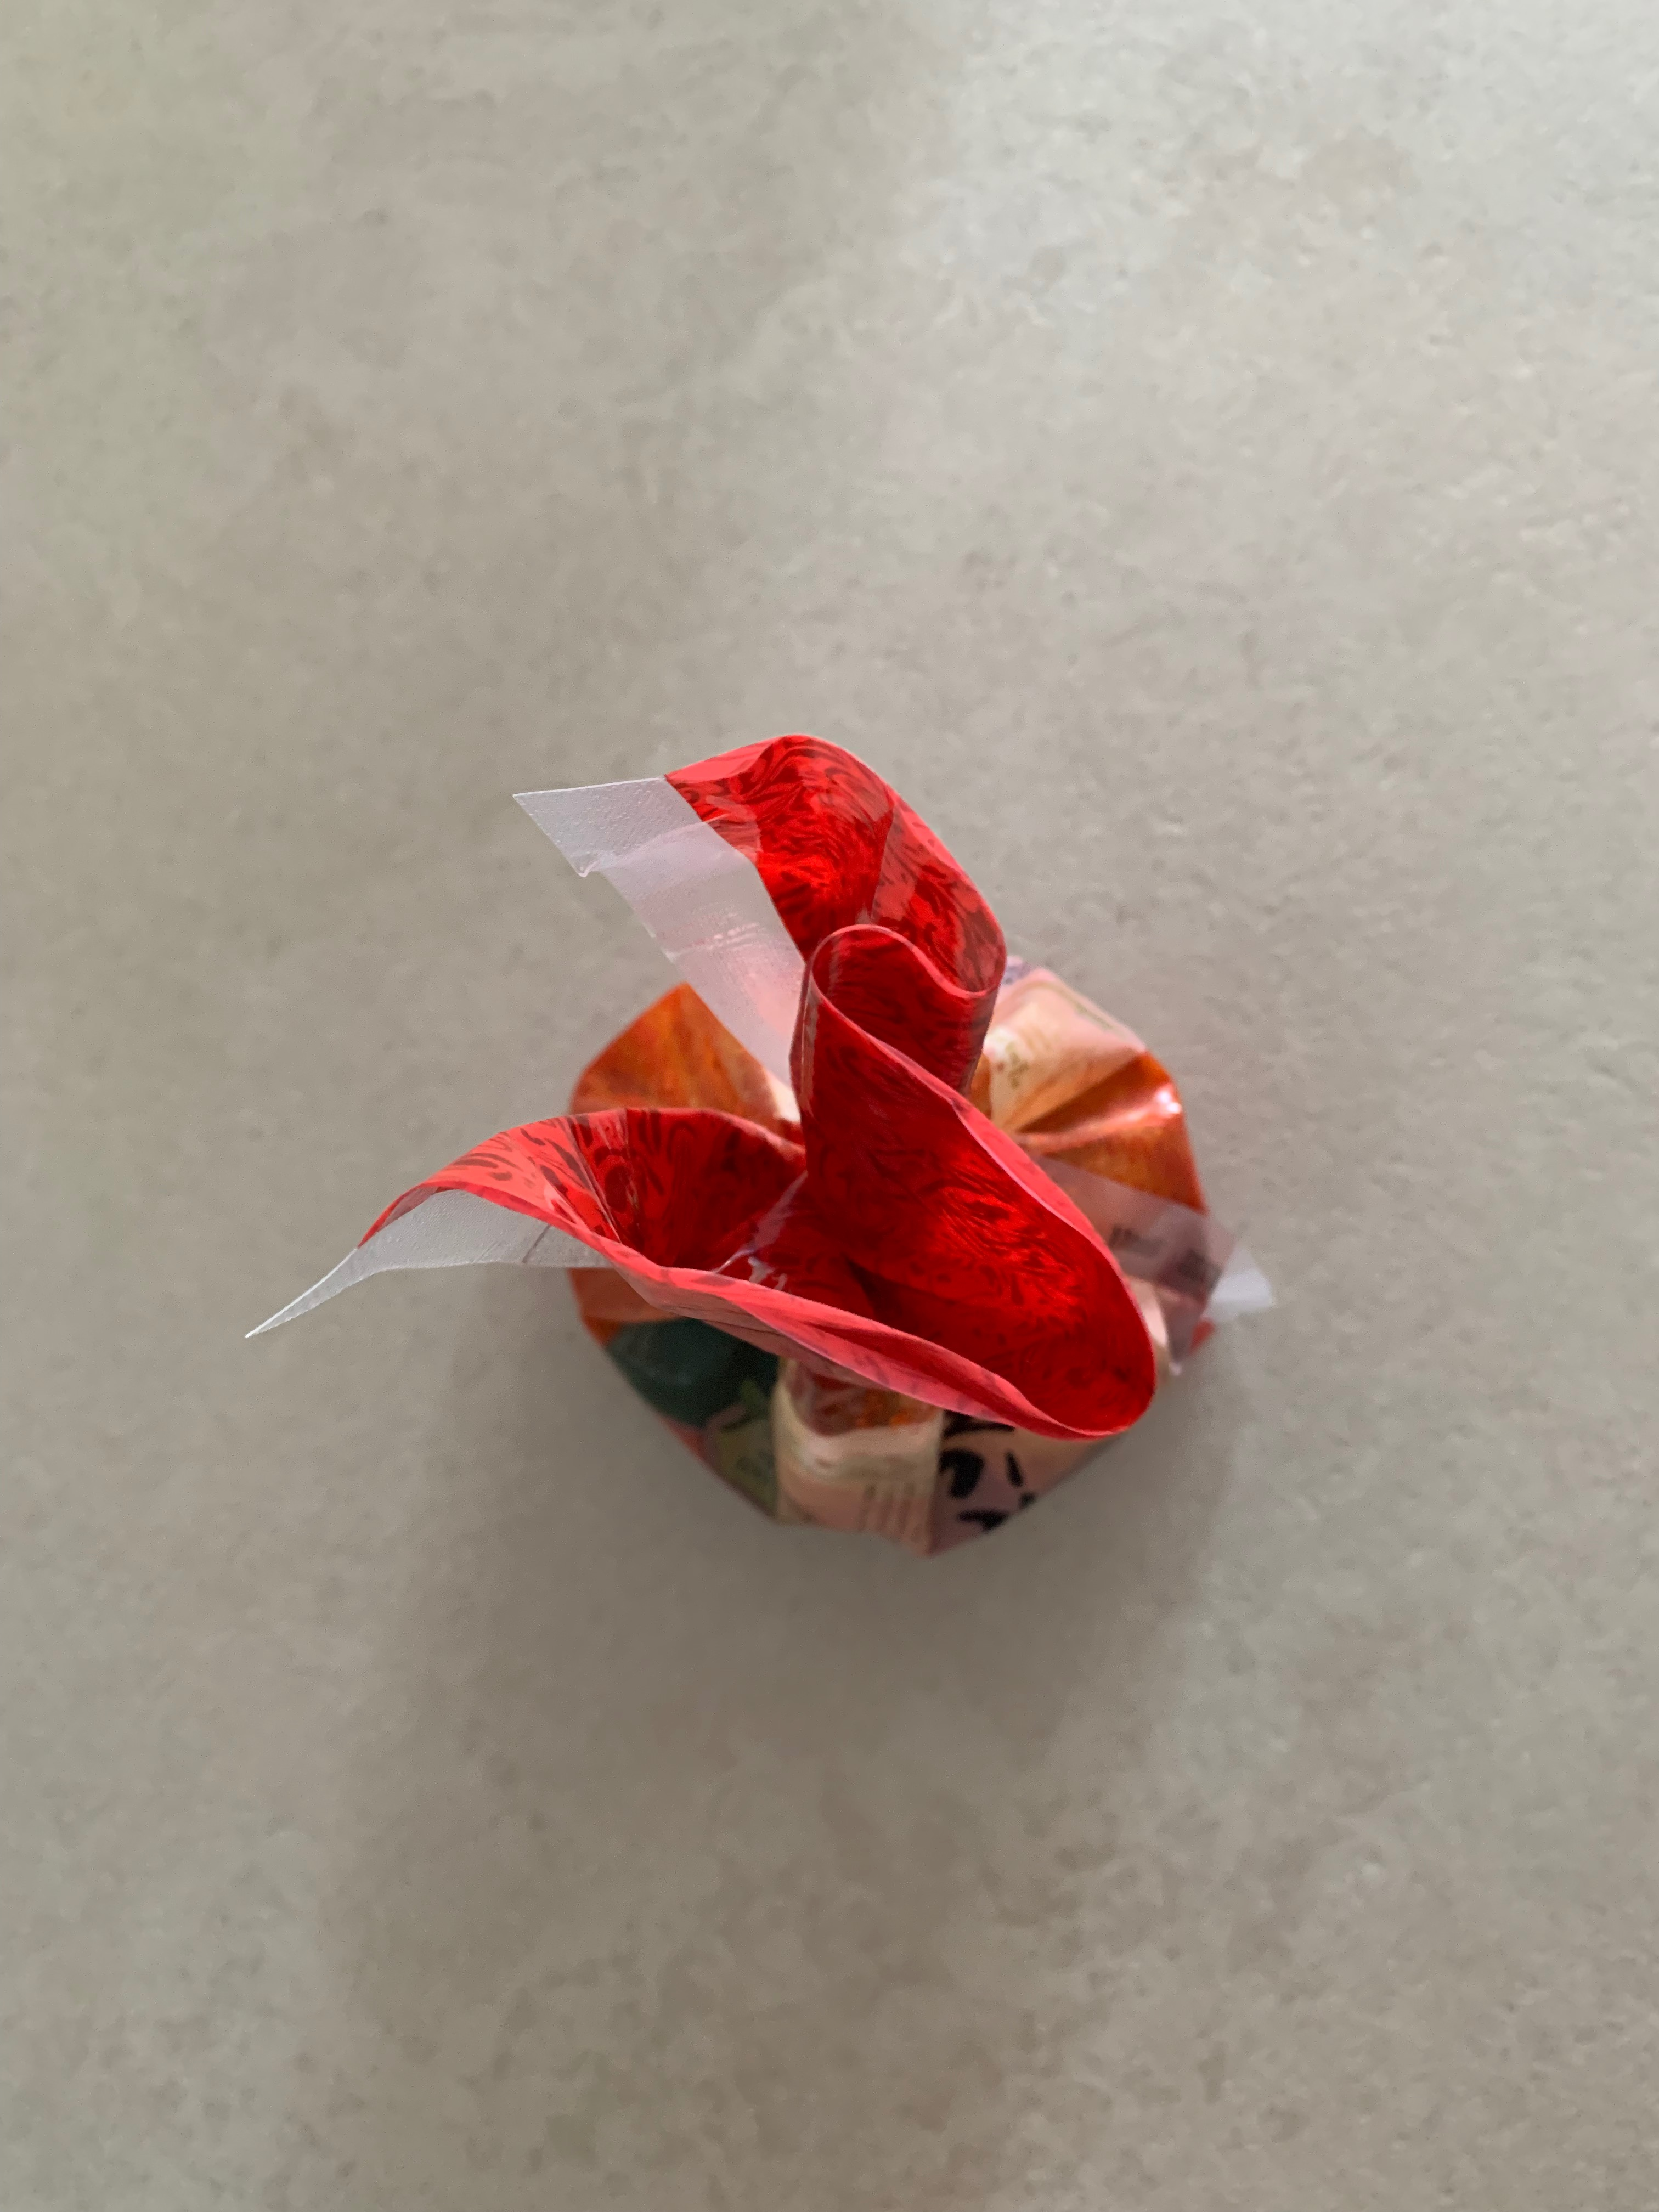kimchi: (434, 735, 1225, 1554)
